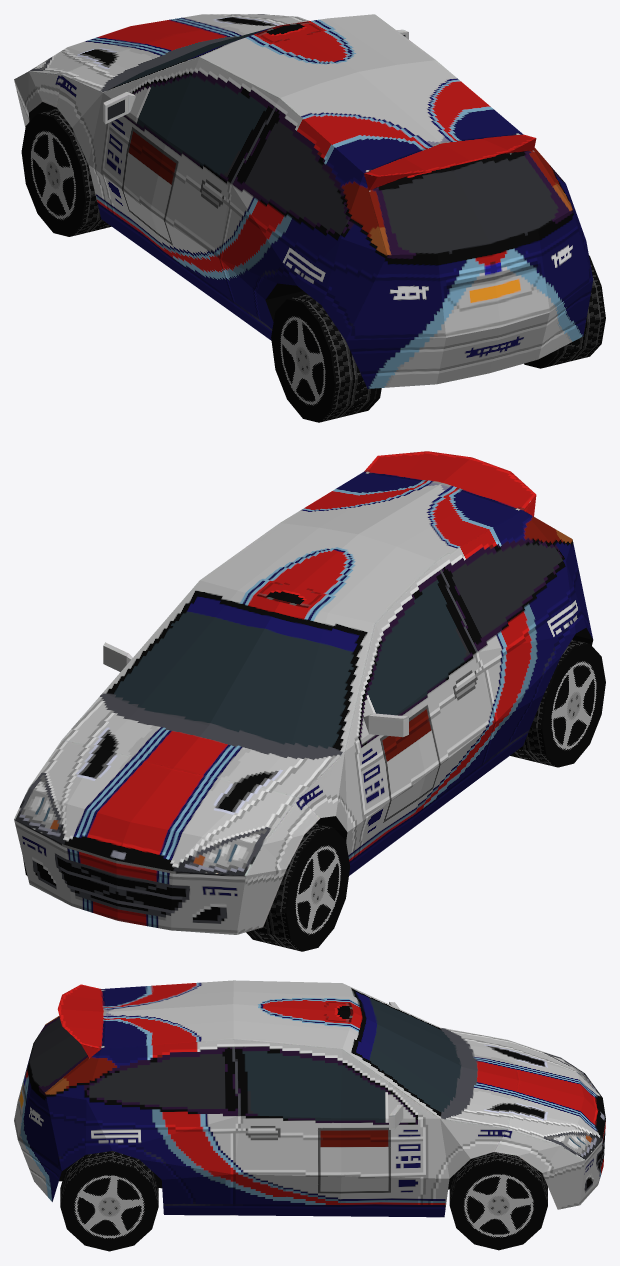
The model's file is force_wrc-CiS94Lug.glb.
3 renders of one model, top to bottom at view 1: azimuth 30°, elevation 25°; view 2: azimuth 150°, elevation 25°; view 3: azimuth 270°, elevation 25°, orthographic. The views are drawn at different scales.
Visible parts, largest first — view 1: Force WRC Body, wheel_mesh_2, wheel_mesh_0, wheel_mesh_3; view 2: Force WRC Body, wheel_mesh_0, wheel_mesh_2; view 3: Force WRC Body, wheel_mesh_3, wheel_mesh_1.
Part boxes in pixels (x1=…): Force WRC Body: x1=14, y1=14, x2=593, y2=388; wheel_mesh_2: x1=271, y1=294, x2=381, y2=422; wheel_mesh_0: x1=21, y1=108, x2=111, y2=236; wheel_mesh_3: x1=524, y1=255, x2=605, y2=368; Force WRC Body: x1=14, y1=451, x2=593, y2=934; wheel_mesh_0: x1=246, y1=823, x2=350, y2=951; wheel_mesh_2: x1=510, y1=639, x2=605, y2=767; Force WRC Body: x1=14, y1=980, x2=605, y2=1217; wheel_mesh_3: x1=60, y1=1151, x2=158, y2=1251; wheel_mesh_1: x1=449, y1=1152, x2=547, y2=1250.
Bounding box in the file's own units: 1.42 × 1.14 × 3.12.
Materials: 3 (3 with a texture image).
